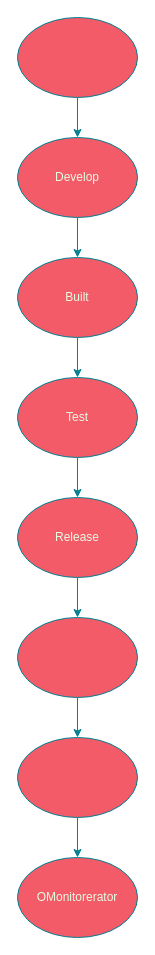
This 155x955 diagram has some shape labels left out. Here are the shapes that lost their labels. From the top down, the centre of each, then its label:
At (77,57): "Plan".
At (77,657): "Deploy".
At (77,777): "Operator".
